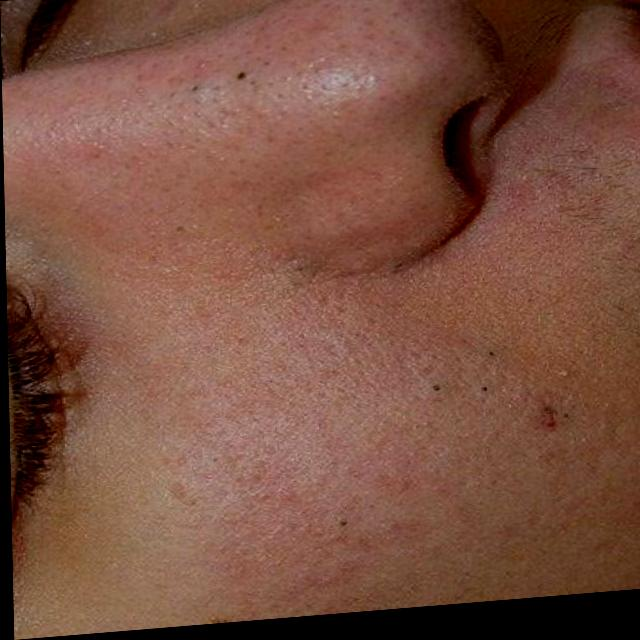7: (543, 362, 585, 393)
dark spot: (303, 479, 399, 551), (420, 344, 513, 418), (369, 240, 474, 293), (166, 60, 271, 107), (130, 212, 235, 258), (272, 237, 338, 291), (543, 403, 588, 447)
